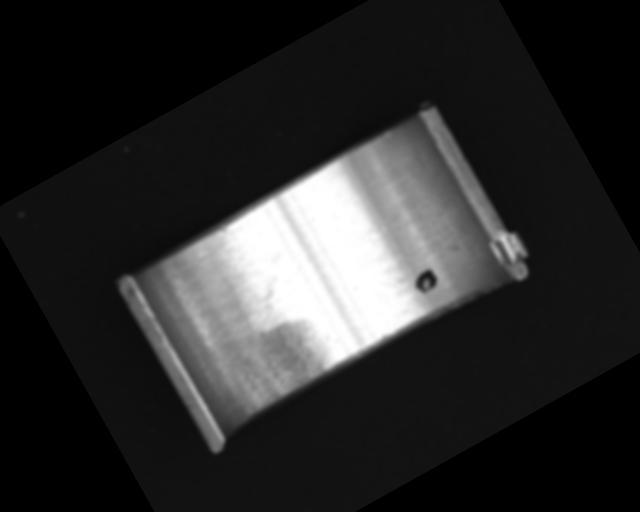blot: (410, 266, 442, 297)
bruise: (217, 222, 230, 235)
scratch: (213, 302, 345, 417)
